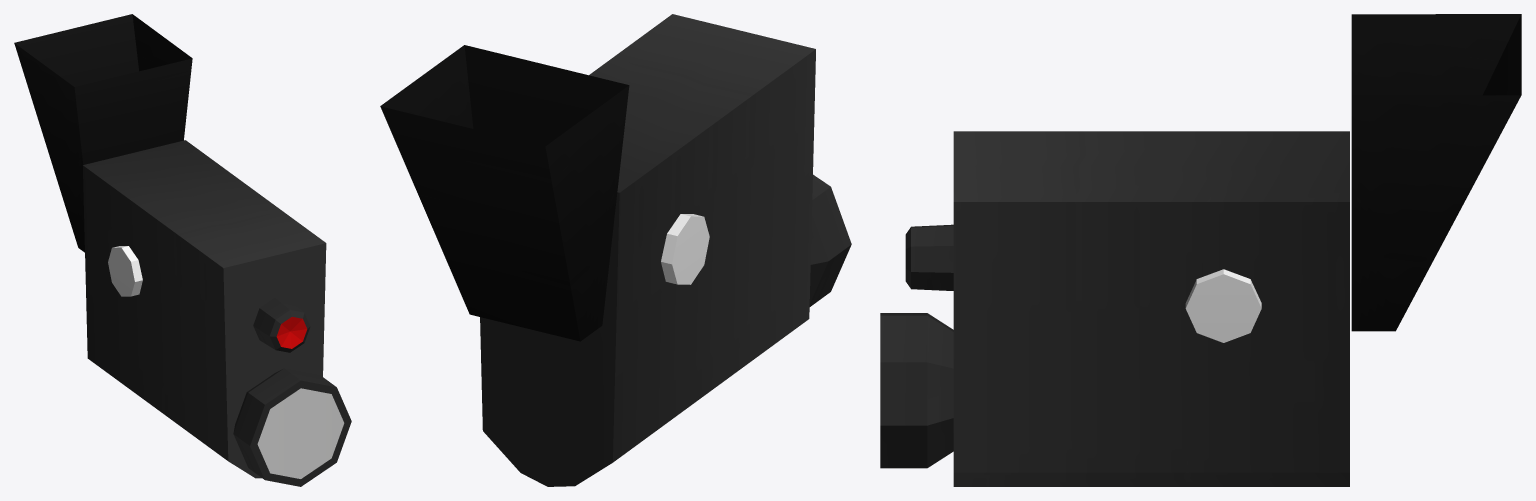
File: SmallLaserCombo_mesh.fbx
3 views of the same model, side by side, from view 1: azimuth 30°, elevation 25°; view 2: azimuth 150°, elevation 25°; view 3: azimuth 270°, elevation 25° (orthographic). The views are drawn at different scales.
Visible parts, largest first — view 1: SmallLaserCombo_mesh; view 2: SmallLaserCombo_mesh; view 3: SmallLaserCombo_mesh.
Part boxes in pixels (left/top/right/bottom): SmallLaserCombo_mesh: left=14, top=14, right=351, bottom=486; SmallLaserCombo_mesh: left=380, top=14, right=851, bottom=486; SmallLaserCombo_mesh: left=880, top=14, right=1521, bottom=486.
Size of the model in its own units: 2.33 by 5.71 by 7.78.
